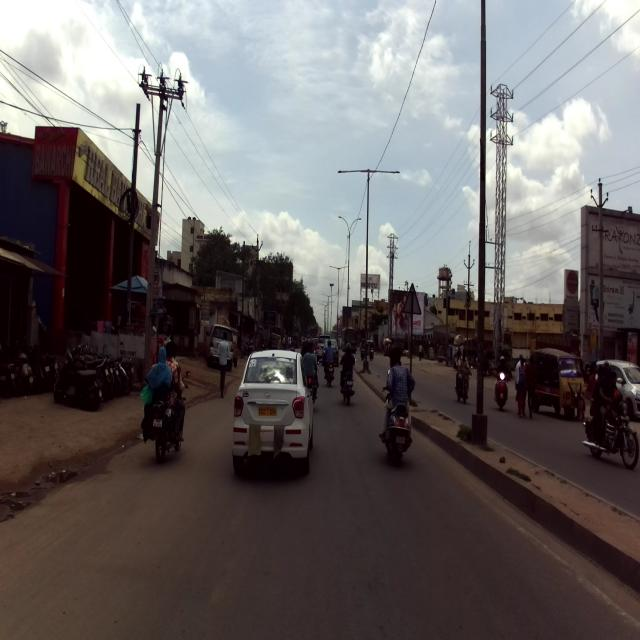Car_Hyundai: (230, 349, 316, 479)
autorickshaw: (529, 346, 584, 421)
motorcycle: (581, 389, 639, 470)
motorcycle_Hero: (145, 370, 192, 464)
scooter: (381, 369, 412, 468)
